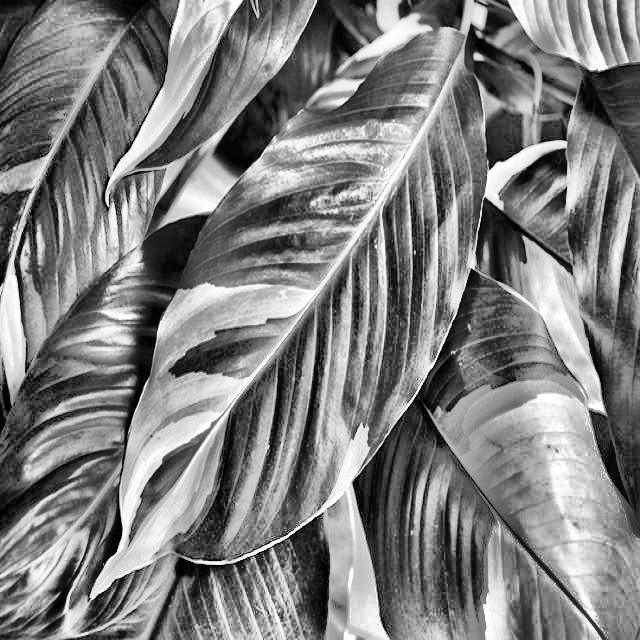plants: (78, 26, 482, 607)
